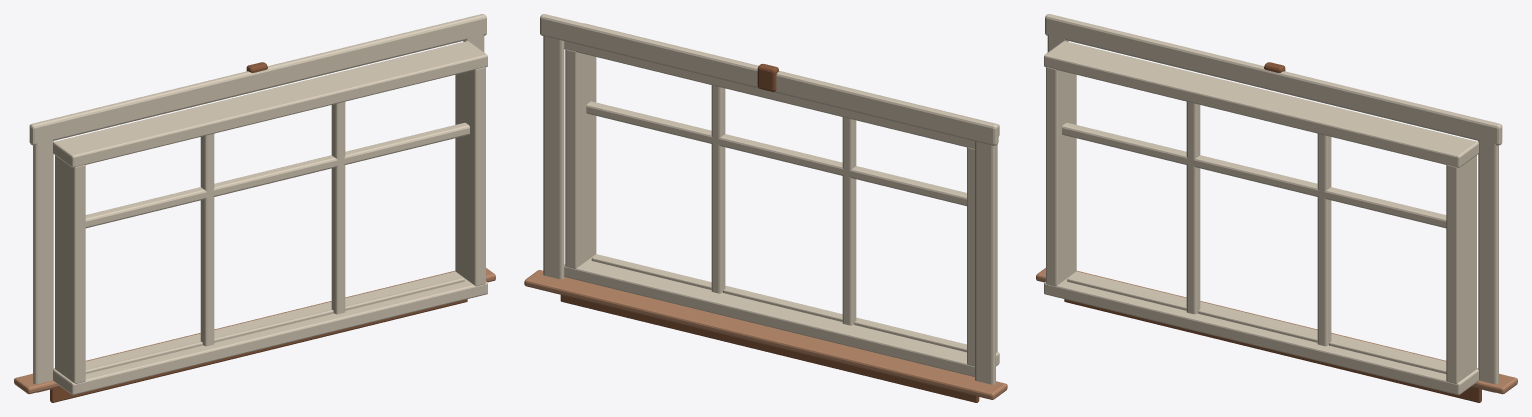
File: street_window.glb
3 renders of one model, left to right at view 1: azimuth 30°, elevation 25°; view 2: azimuth 150°, elevation 25°; view 3: azimuth 330°, elevation 25°, orthographic.
Parts seen in each view (by area): view 1: street_window; view 2: street_window; view 3: street_window.
Part boxes in pixels (x1,y1,x2,y2): street_window: (14, 14, 495, 402); street_window: (524, 14, 1007, 402); street_window: (1036, 14, 1517, 402).
Size of the model in its own units: 3.58 by 2.09 by 0.44.
